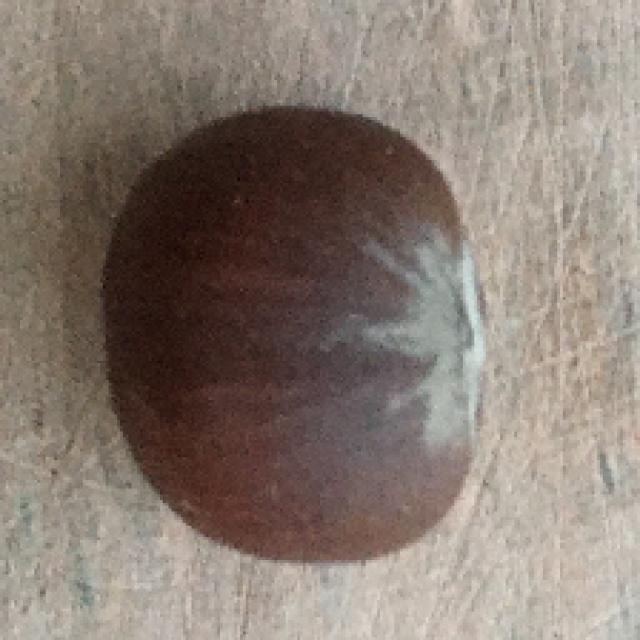qualityHazelnut: (101, 106, 488, 561)
